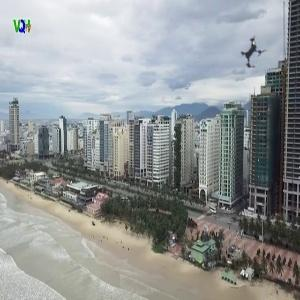drone: (228, 27, 281, 80)
